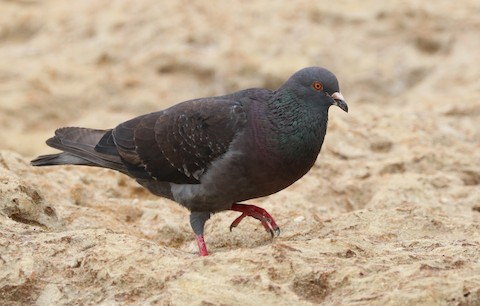pigeon: (27, 59, 355, 262)
